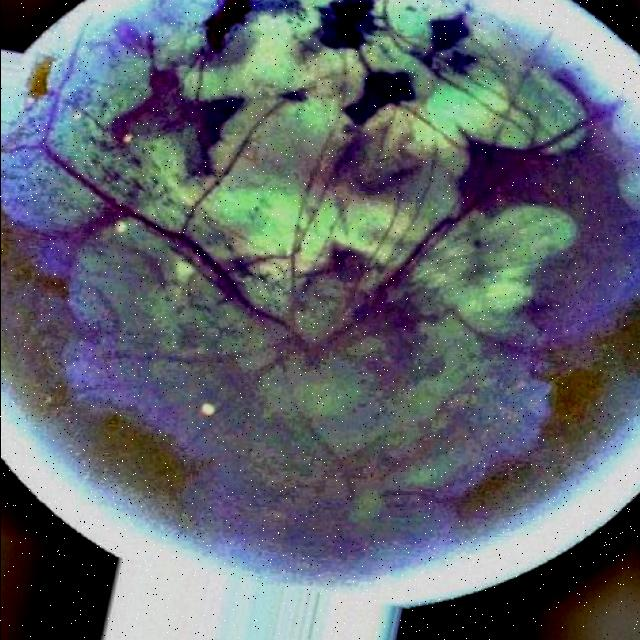Nerves: (34, 28, 597, 357), (339, 37, 415, 123), (190, 0, 256, 92), (419, 11, 475, 80)
